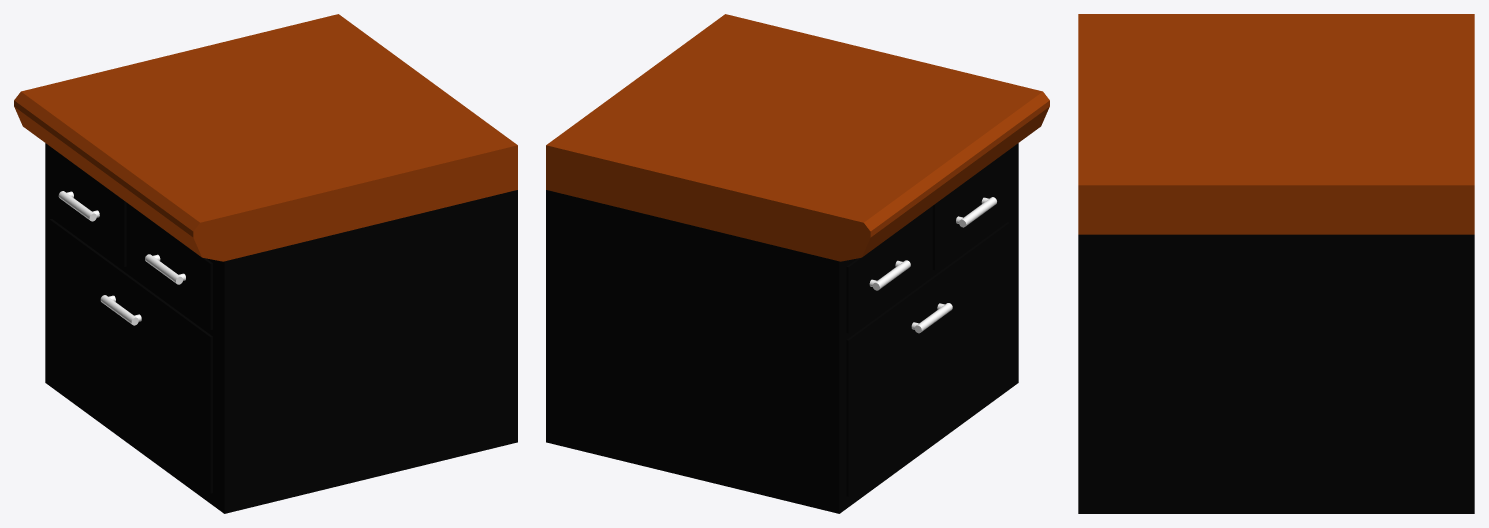
Rendered from kitchin_stand_drawer.gltf.
The picture shows the model from 3 angles, left to right: view 1: azimuth 30°, elevation 25°; view 2: azimuth 150°, elevation 25°; view 3: azimuth 270°, elevation 25°; orthographic projection. The views are drawn at different scales.
Parts seen in each view (by area): view 1: Cube.004; view 2: Cube.004; view 3: Cube.004.
Part boxes in pixels (x1,y1,x2,y2): Cube.004: [14, 14, 517, 513]; Cube.004: [546, 14, 1049, 513]; Cube.004: [1078, 14, 1474, 513].
Size of the model in its own units: 3.68 by 3.22 by 3.52.
